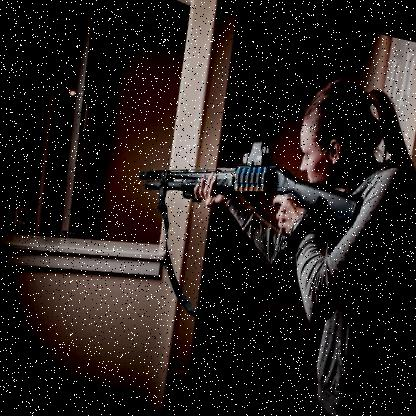rifle: (127, 116, 376, 260)
